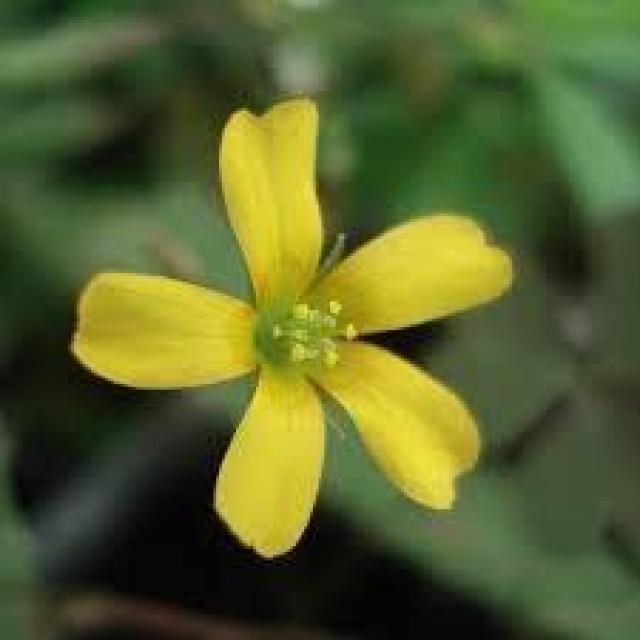organic waste: (51, 98, 524, 565)
